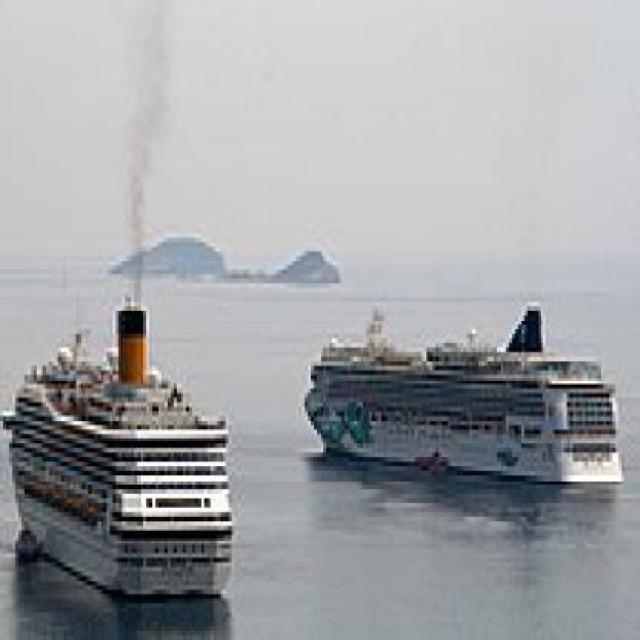cruise: (1, 284, 243, 610), (296, 298, 635, 499)
